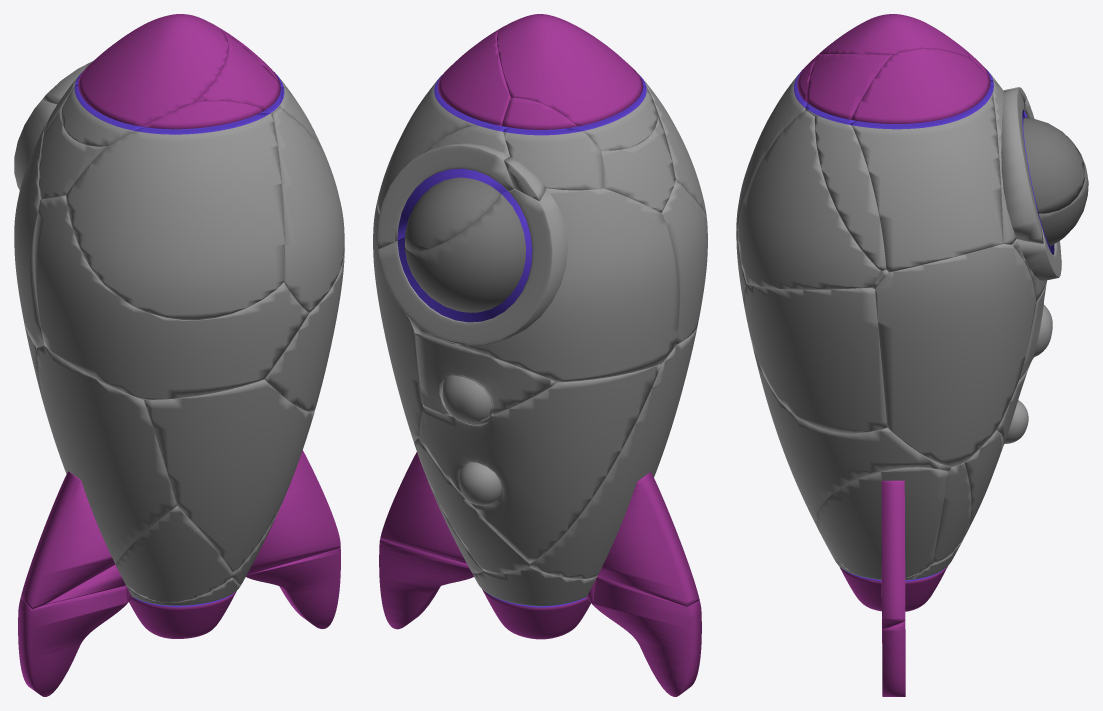
Rendered from Ship Violet Fractured.fbx.
3 renders of one model, left to right at view 1: azimuth 30°, elevation 25°; view 2: azimuth 150°, elevation 25°; view 3: azimuth 270°, elevation 25°, orthographic. The views are drawn at different scales.
Parts seen in each view (by area): view 1: Glass Window_shard.010, Glass Window_shard, Glass Window_shard.005, Glass Window_shard.020, Glass Window_shard.007, Glass Window_shard.019, Glass Window_shard.015, Glass Window_shard.013, Glass Window_shard.001, Glass Window_shard.004, Glass Window_shard.008, Glass Window_shard.017 (+4 smaller); view 2: Glass Window_shard.008, Glass Window_shard.014, Glass Window_shard.005, Glass Window_shard.007, Glass Window_shard.012, Glass Window_shard.021, Glass Window_shard.016, Glass Window_shard.018, Glass Window_shard.013, Glass Window_shard.022, Glass Window_shard.002, Glass Window_shard (+6 smaller); view 3: Glass Window_shard.006, Glass Window_shard.021, Glass Window_shard.017, Glass Window_shard.019, Glass Window_shard.004, Glass Window_shard.012, Glass Window_shard.020, Glass Window_shard.009, Glass Window_shard.001, Glass Window_shard.007, Glass Window_shard.008, Glass Window_shard.010 (+6 smaller).
Part boxes in pixels (x1,y1,x2,y2): Glass Window_shard.010: [66, 100, 284, 319]; Glass Window_shard: [33, 195, 308, 399]; Glass Window_shard.005: [20, 345, 176, 609]; Glass Window_shard.020: [144, 379, 315, 573]; Glass Window_shard.007: [61, 14, 228, 146]; Glass Window_shard.019: [273, 107, 344, 312]; Glass Window_shard.015: [45, 506, 233, 604]; Glass Window_shard.013: [18, 586, 127, 696]; Glass Window_shard.001: [38, 29, 282, 199]; Glass Window_shard.004: [232, 450, 340, 585]; Glass Window_shard.008: [14, 100, 57, 347]; Glass Window_shard.017: [264, 252, 344, 411]; Glass Window_shard.008: [378, 188, 679, 382]; Glass Window_shard.014: [418, 364, 661, 563]; Glass Window_shard.005: [530, 327, 699, 606]; Glass Window_shard.007: [497, 14, 657, 150]; Glass Window_shard.012: [376, 124, 514, 251]; Glass Window_shard.021: [377, 28, 510, 214]; Glass Window_shard.016: [415, 333, 557, 423]; Glass Window_shard.018: [502, 97, 603, 200]; Glass Window_shard.013: [593, 576, 701, 696]; Glass Window_shard.022: [471, 566, 595, 639]; Glass Window_shard.002: [379, 539, 473, 629]; Glass Window_shard: [661, 180, 707, 344]; Glass Window_shard.006: [875, 243, 1036, 466]; Glass Window_shard.021: [850, 48, 1003, 272]; Glass Window_shard.017: [743, 284, 887, 433]; Glass Window_shard.019: [738, 110, 880, 289]; Glass Window_shard.004: [817, 467, 948, 629]; Glass Window_shard.012: [990, 78, 1085, 244]; Glass Window_shard.020: [749, 332, 951, 531]; Glass Window_shard.009: [814, 115, 886, 271]; Glass Window_shard.001: [805, 54, 891, 123]; Glass Window_shard.007: [819, 14, 970, 58]; Glass Window_shard.008: [1012, 97, 1088, 302]; Glass Window_shard.010: [736, 52, 820, 230].
Size of the model in its own units: 297 by 585 by 304.
